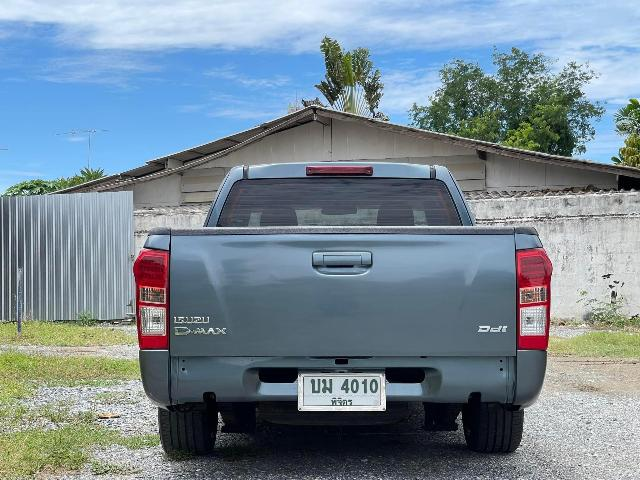pickup-truck: (111, 142, 574, 463)
